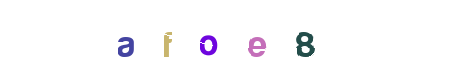8: (265, 0, 345, 80)
A: (126, 0, 206, 80)
E: (204, 0, 284, 80)
F: (127, 0, 207, 80)
O: (187, 0, 267, 80)
